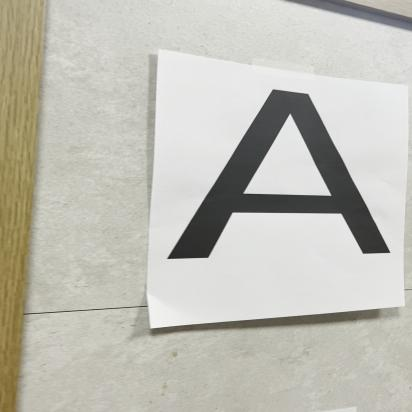seat: (163, 85, 412, 293)
